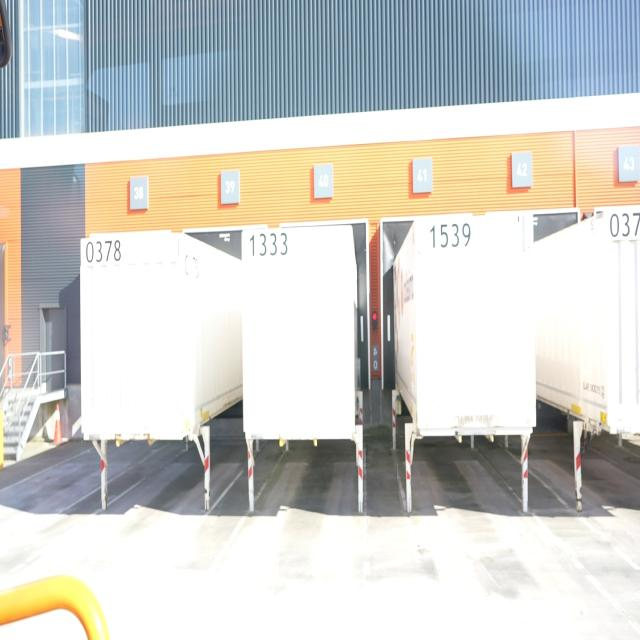Code: (425, 217, 474, 258), (246, 230, 290, 260), (82, 237, 123, 267)
